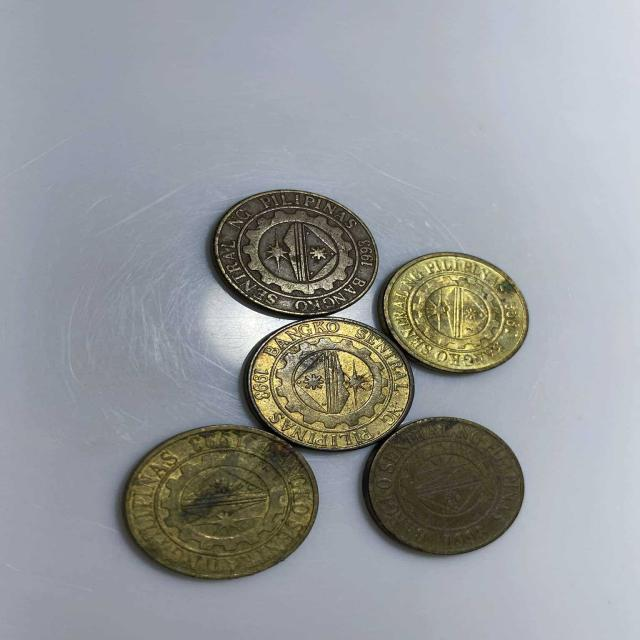25Cent_Old_Back: (126, 428, 315, 577), (361, 420, 524, 555), (254, 320, 406, 450), (217, 190, 377, 310), (387, 255, 528, 368)
